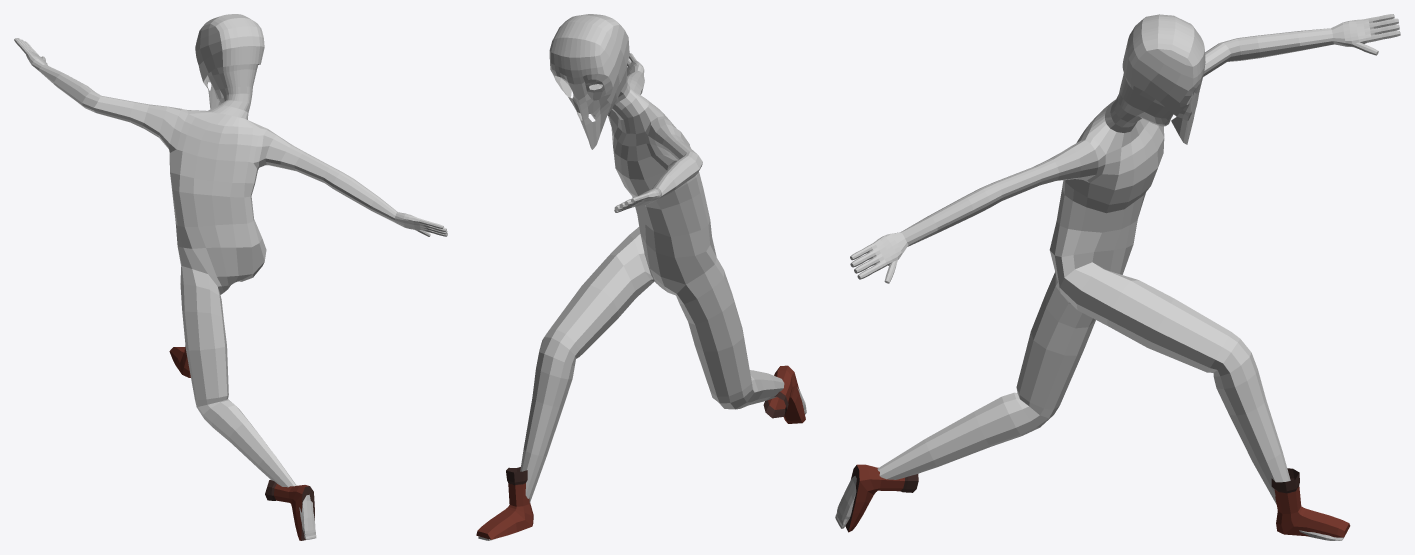
Rendered from saltoadelante_000114.obj.
3 renders of one model, left to right at view 1: azimuth 30°, elevation 25°; view 2: azimuth 150°, elevation 25°; view 3: azimuth 270°, elevation 25°, orthographic. The views are drawn at different scales.
Parts seen in each view (by area): view 1: Plane.002_Plane.001, Plane.004; view 2: Plane.002_Plane.001, Plane.003, Plane.004; view 3: Plane.002_Plane.001, Plane.003, Plane.004.
Part boxes in pixels (box(x1,y1,x2,y2)): Plane.002_Plane.001: box(14, 14, 447, 539); Plane.004: box(265, 480, 314, 540); Plane.002_Plane.001: box(478, 14, 806, 540); Plane.003: box(476, 467, 533, 539); Plane.004: box(763, 365, 805, 423); Plane.002_Plane.001: box(835, 14, 1400, 540); Plane.003: box(1271, 468, 1350, 537); Plane.004: box(845, 464, 918, 532).
Bounding box in the file's own units: 3.42 × 6.07 × 5.78.
